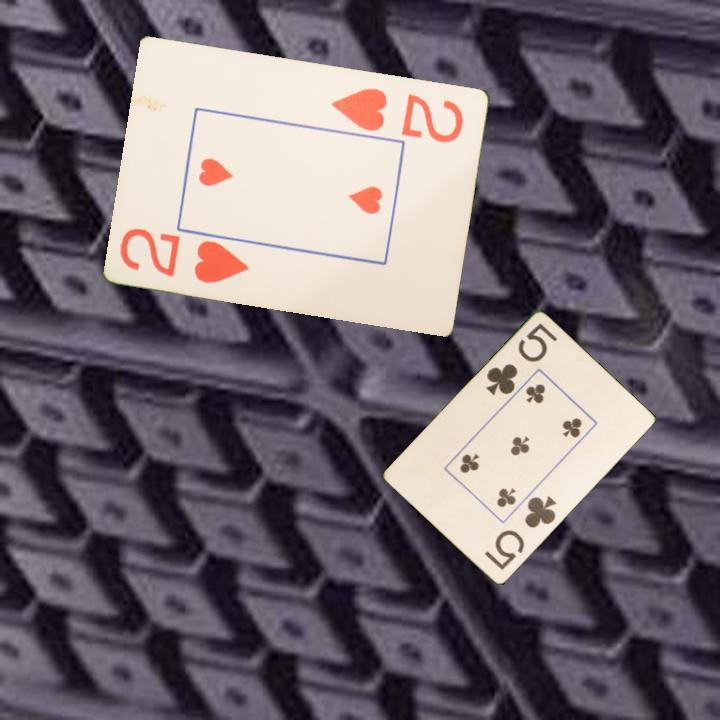2h: (116, 224, 253, 286), (328, 84, 467, 145)
5c: (481, 492, 559, 573), (482, 320, 560, 399)
